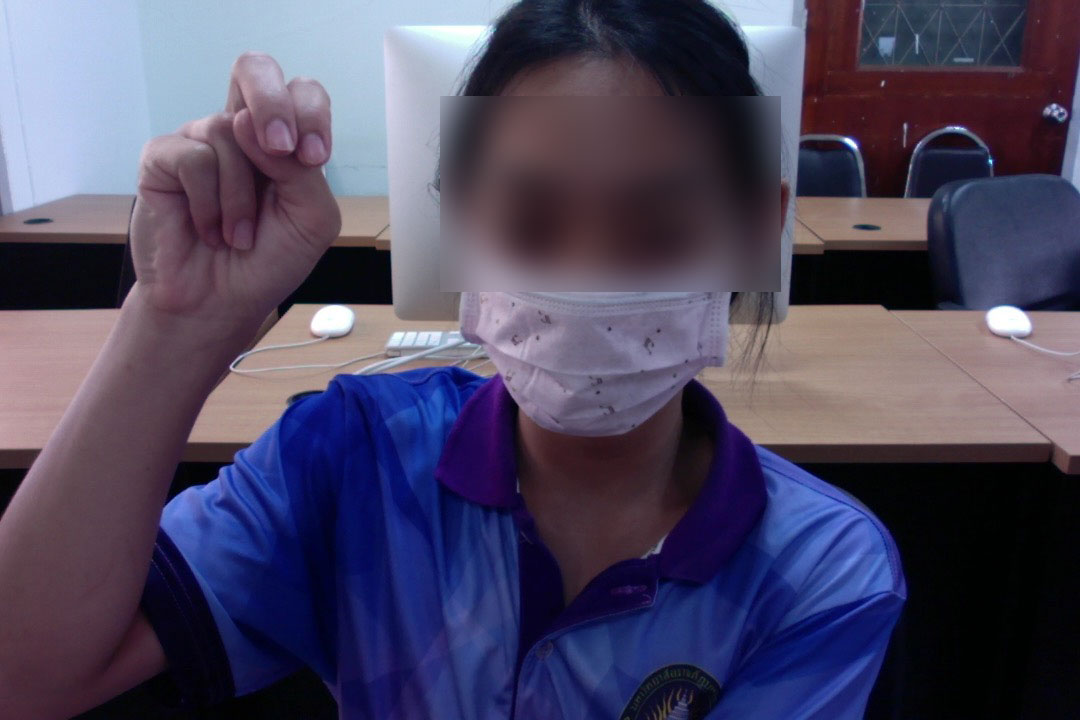nor: (114, 40, 351, 363)
